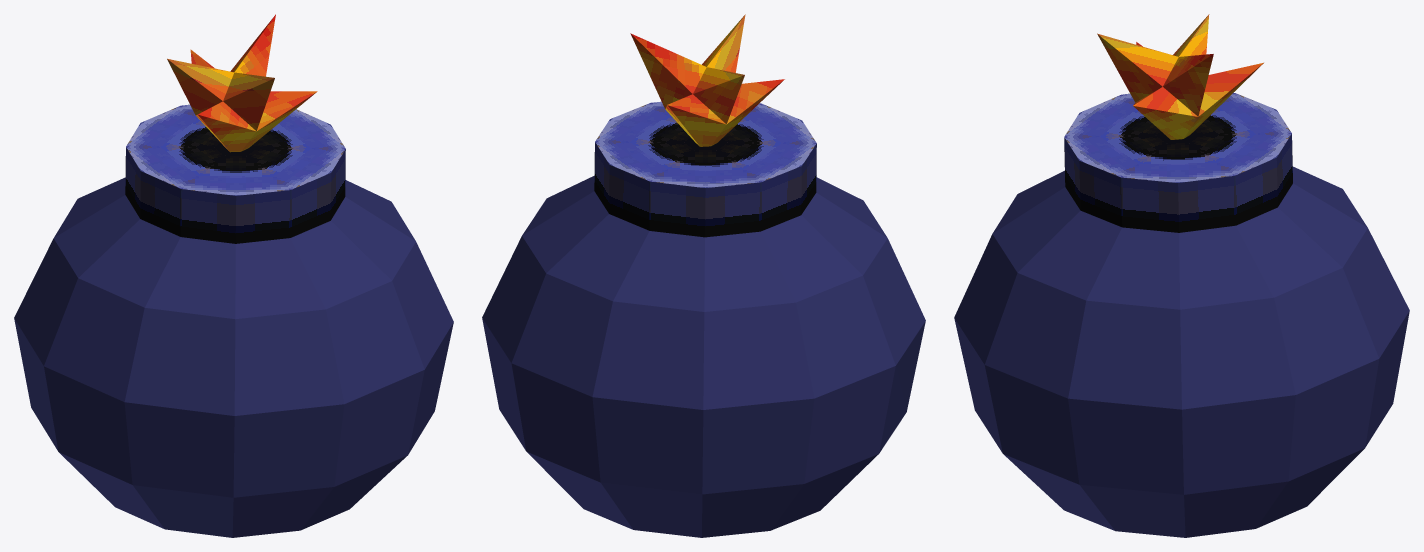
Rendered from Bomb.obj.
3 renders of one model, left to right at view 1: azimuth 30°, elevation 25°; view 2: azimuth 150°, elevation 25°; view 3: azimuth 270°, elevation 25°, orthographic. The views are drawn at different scales.
Parts seen in each view (by area): view 1: Mesh.469_DrawCall_317; view 2: Mesh.469_DrawCall_317; view 3: Mesh.469_DrawCall_317.
Boxes of the visible parts, x1,y1,x2,y2 form: Mesh.469_DrawCall_317: (14,14,453,537); Mesh.469_DrawCall_317: (482,14,925,537); Mesh.469_DrawCall_317: (954,14,1409,537).
Size of the model in its own units: 10.39 by 12.45 by 10.46.
1 material, 1 textured.
